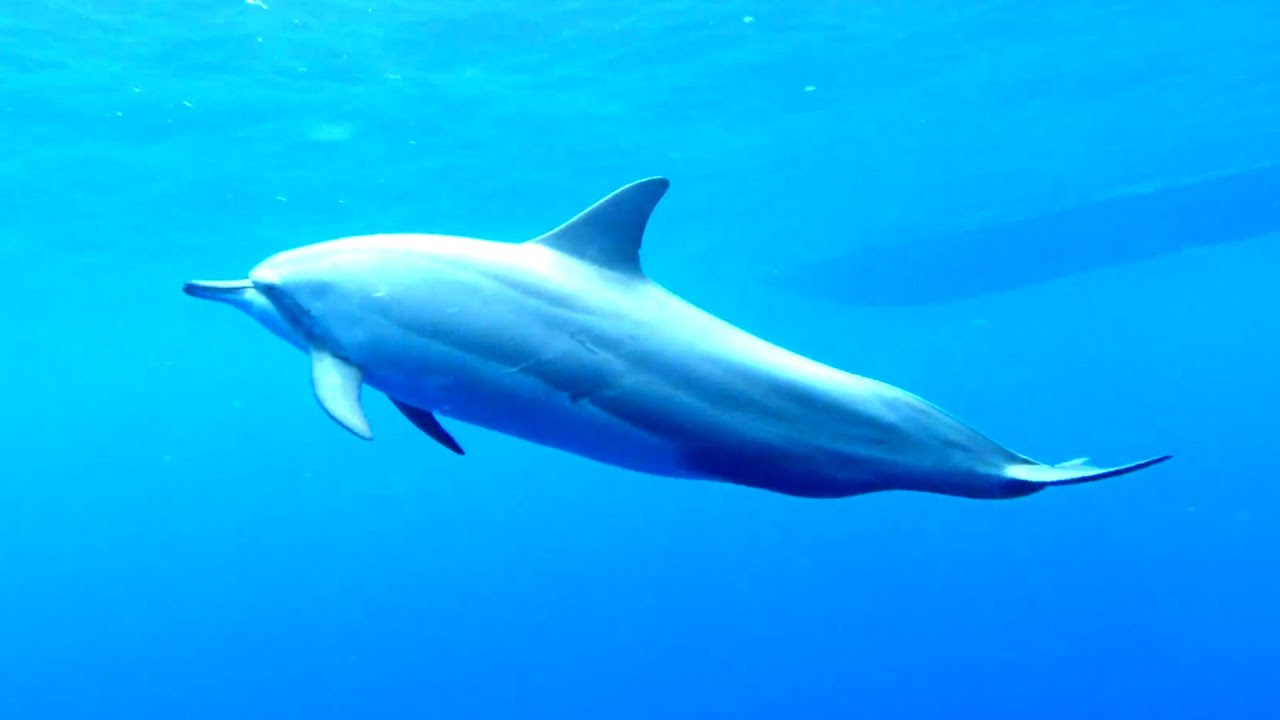dolphin: (178, 189, 1206, 562)
